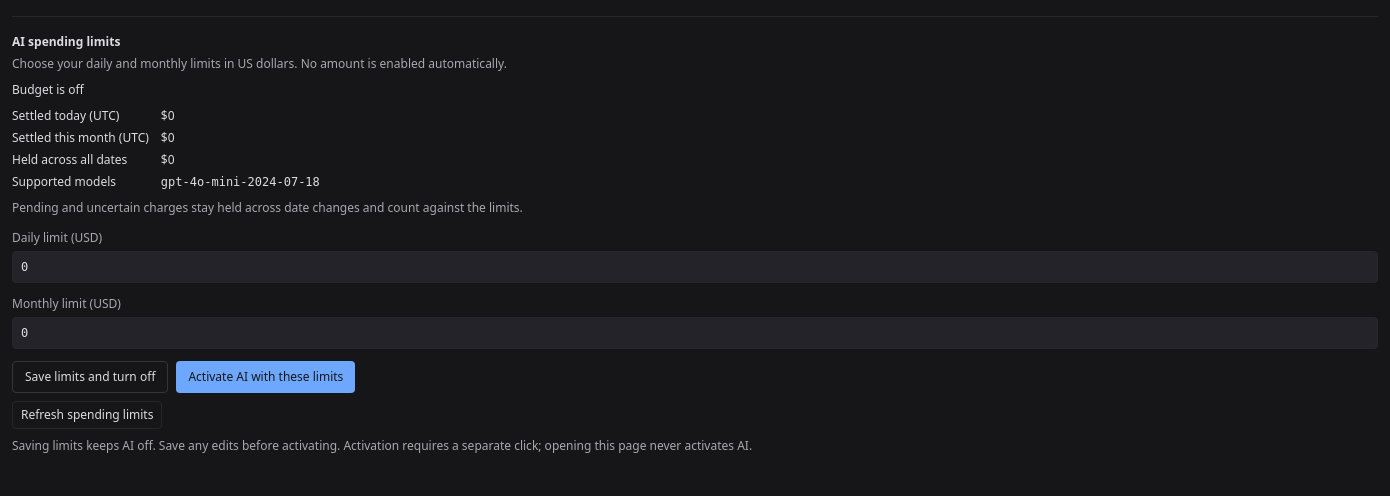
Test: AiBudgetSettings › does not automatically retry a conflicting save or activate the refreshed revision
This screenshot has width=1390, height=496.
Expected: the field labelled "Daily limit (USD)" is enabled, [12,251,1378,283]
Click the button "Save limits and turn off" at (90, 377), box [12,361,168,393]
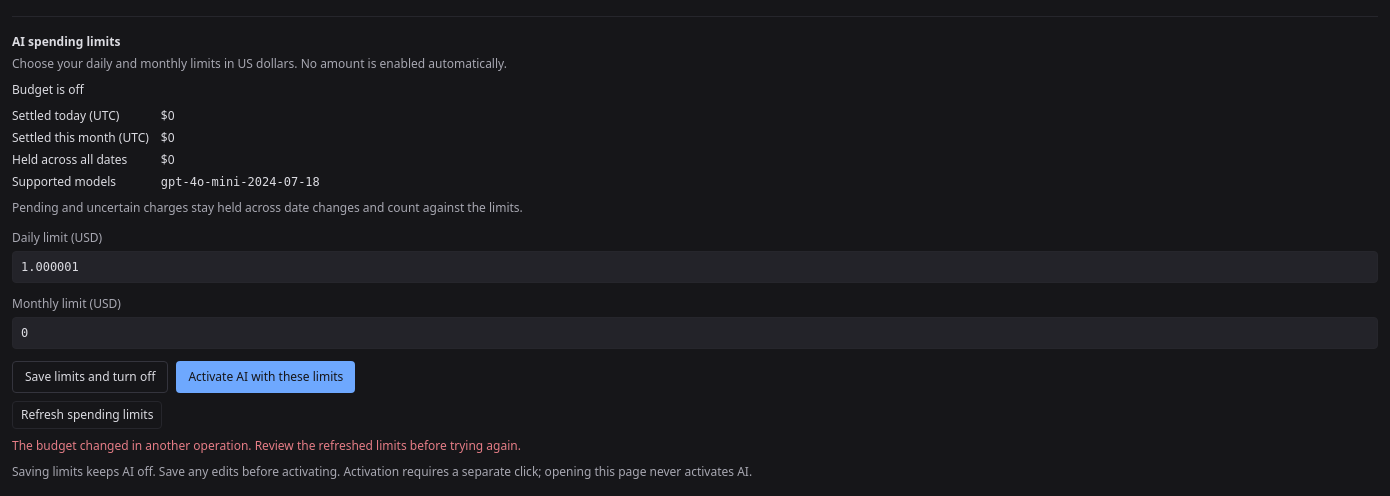
Result: the 2nd message shows "budget changed in another operation" at [12,437,521,454]
Result: the field labelled "Daily limit (USD)" holds "1.000001" at [12,251,1378,283]
